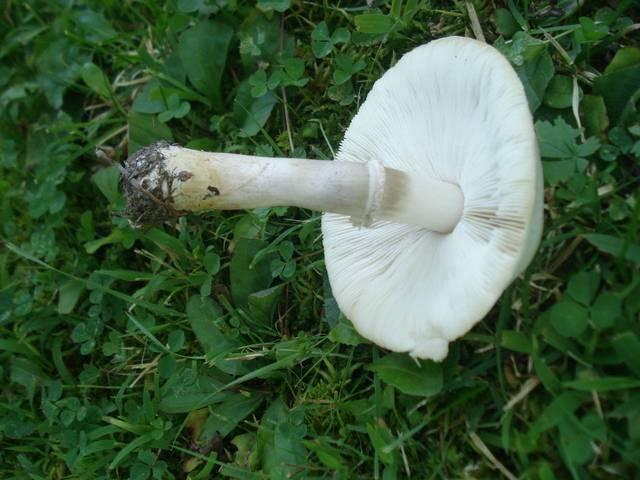poisonous_mushroom: (116, 34, 546, 362)
